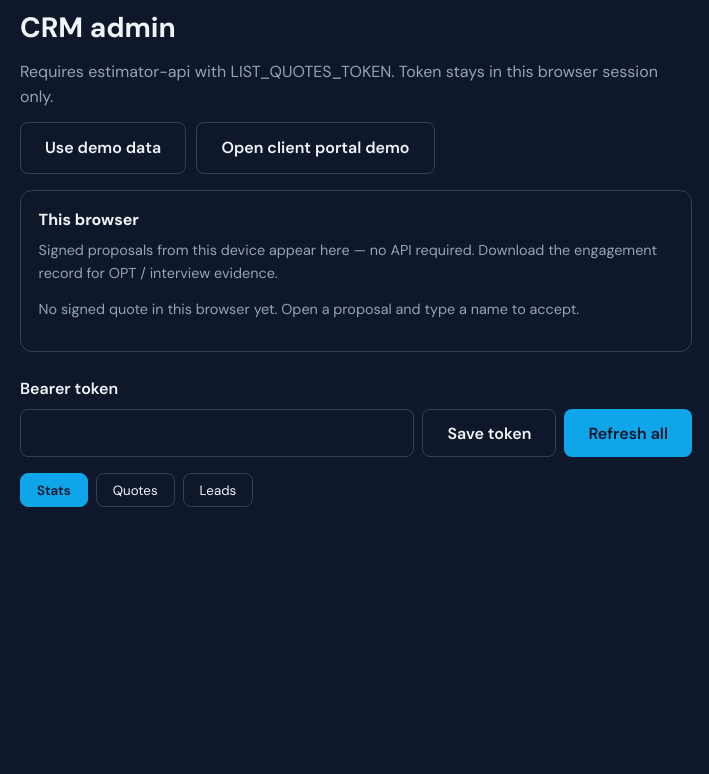
Test: CrmAdmin › loads demo data when switching from live mode
The image size is (709, 774).
Step 1. Click the tab "Leads" → (218, 490), box x1=183 y1=474 x2=253 y2=507
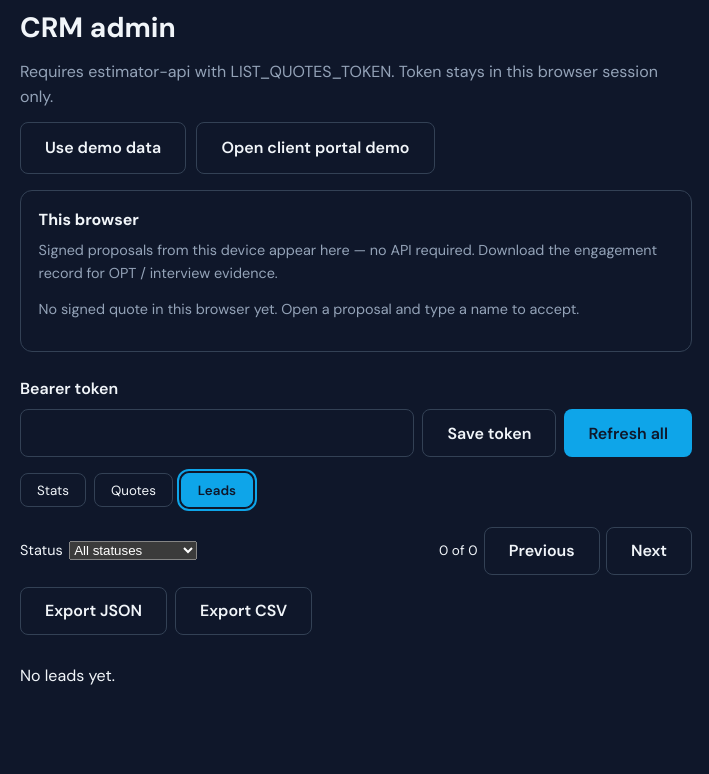
Check: the text "Alex Chen" is not shown
Step 2. Click the button "Use demo data" → (103, 148), box x1=20 y1=122 x2=186 y2=174
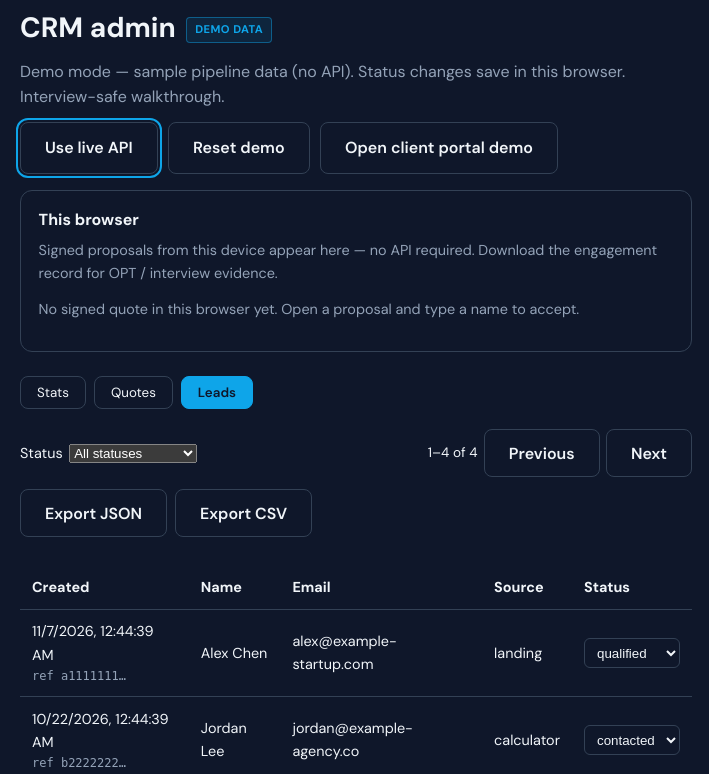
Check: the text "Alex Chen" is shown, box x1=189 y1=610 x2=280 y2=697
